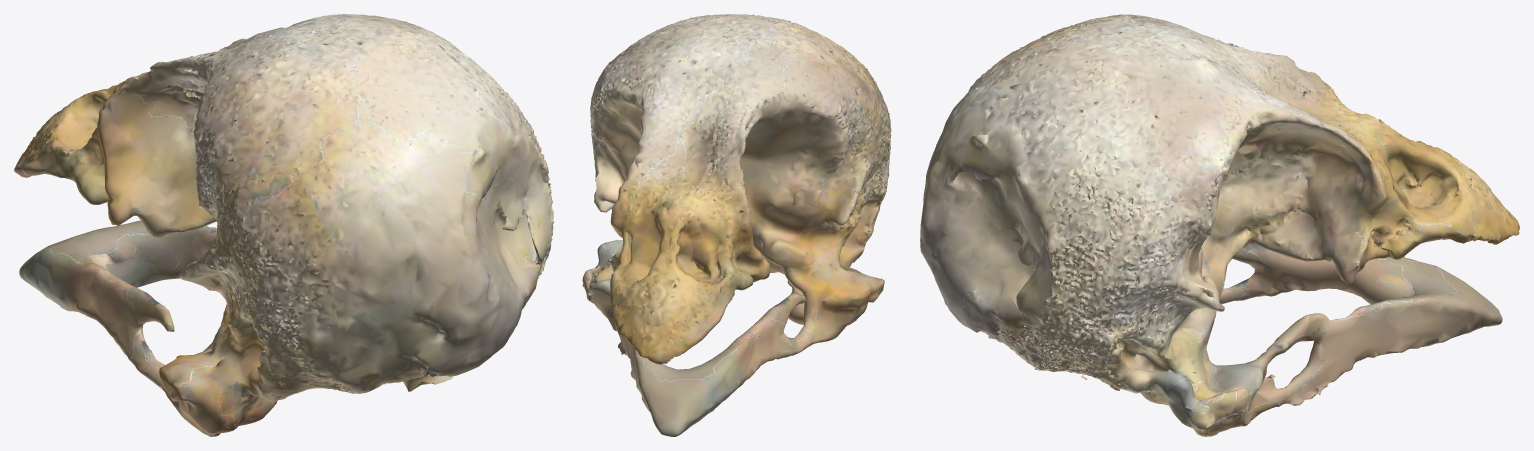
Rendered from verdecillo.glb.
3 renders of one model, left to right at view 1: azimuth 30°, elevation 25°; view 2: azimuth 150°, elevation 25°; view 3: azimuth 270°, elevation 25°, orthographic. The views are drawn at different scales.
Visible parts, largest first — view 1: Object_2; view 2: Object_2; view 3: Object_2.
Part boxes in pixels (x1,y1,x2,y2): Object_2: [14, 14, 553, 436]; Object_2: [582, 14, 891, 436]; Object_2: [920, 14, 1519, 436].
Size of the model in its own units: 1.08 by 1.05 by 1.63.
Materials: 1 (1 with a texture image).
